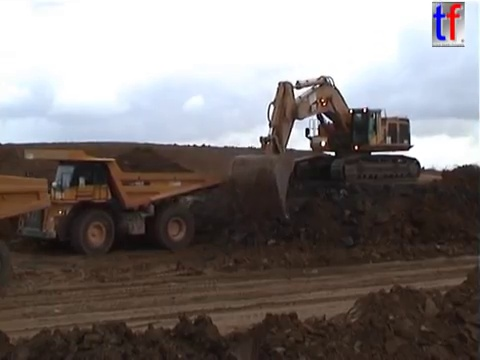excavator: (229, 73, 424, 228)
truck: (16, 146, 225, 258), (1, 171, 51, 297)
